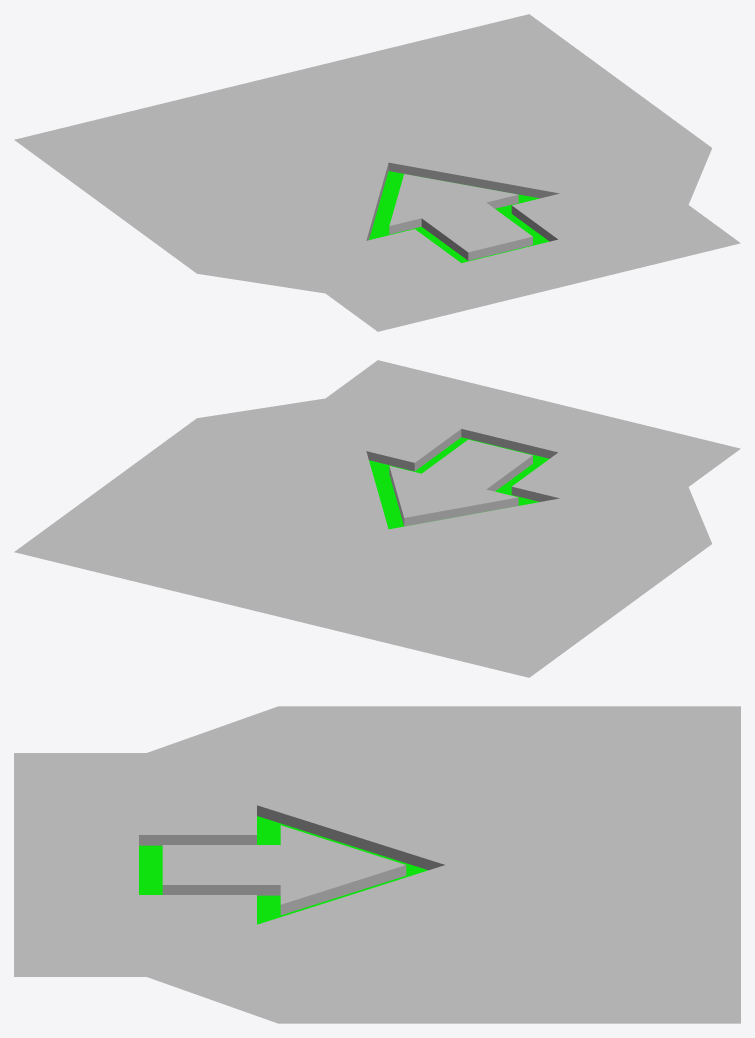
File: x_BASHNYA_Teleport_ZM1_rmstrd.fbx
3 views of the same model, one above another, from view 1: azimuth 30°, elevation 25°; view 2: azimuth 150°, elevation 25°; view 3: azimuth 270°, elevation 25° (orthographic). The views are drawn at different scales.
Visible parts, largest first — view 1: x_BASHNYA_Teleport_ZM1_rmstrd1; view 2: x_BASHNYA_Teleport_ZM1_rmstrd1; view 3: x_BASHNYA_Teleport_ZM1_rmstrd1.
Part boxes in pixels (x1,y1,x2,y2): x_BASHNYA_Teleport_ZM1_rmstrd1: (14,14,740,331); x_BASHNYA_Teleport_ZM1_rmstrd1: (14,360,740,677); x_BASHNYA_Teleport_ZM1_rmstrd1: (14,706,740,1023).
Size of the model in its own units: 3.19 by 0.05 by 3.08.
